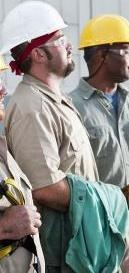hard-hat: (0, 34, 43, 93)
ppe-suit: (1, 0, 1, 1)
vest: (0, 112, 65, 271)
